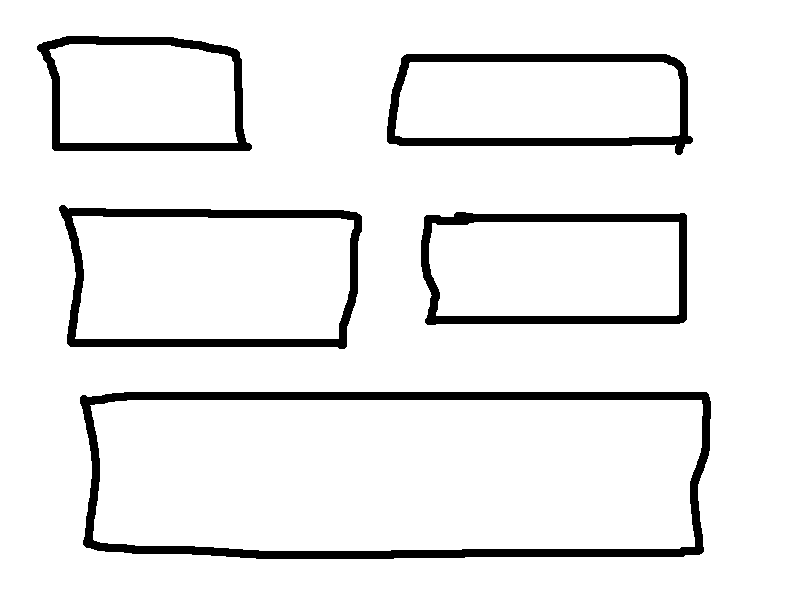rect: (80, 383, 718, 566), (54, 199, 368, 354), (416, 205, 696, 329), (381, 48, 696, 157), (35, 31, 260, 160)
